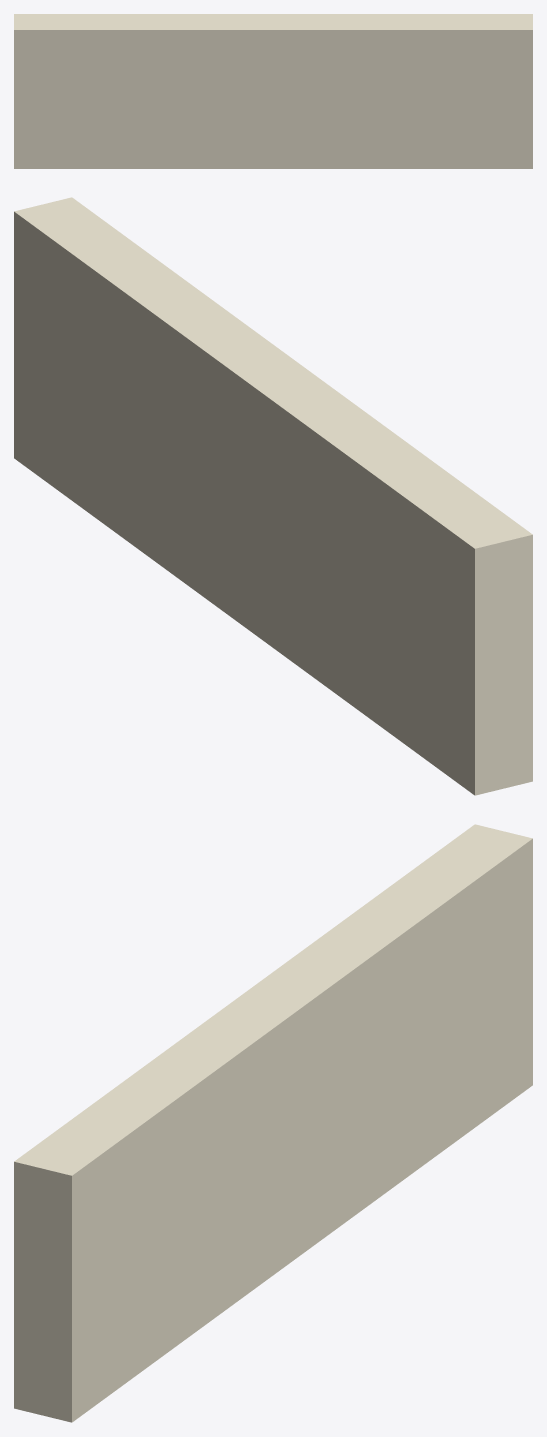
The model's file is rail-150.glb.
3 renders of one model, top to bottom at view 1: azimuth 30°, elevation 25°; view 2: azimuth 150°, elevation 25°; view 3: azimuth 270°, elevation 25°, orthographic. The views are drawn at different scales.
Bounding box in the file's own units: 1.99 × 0.65 × 1.24.
